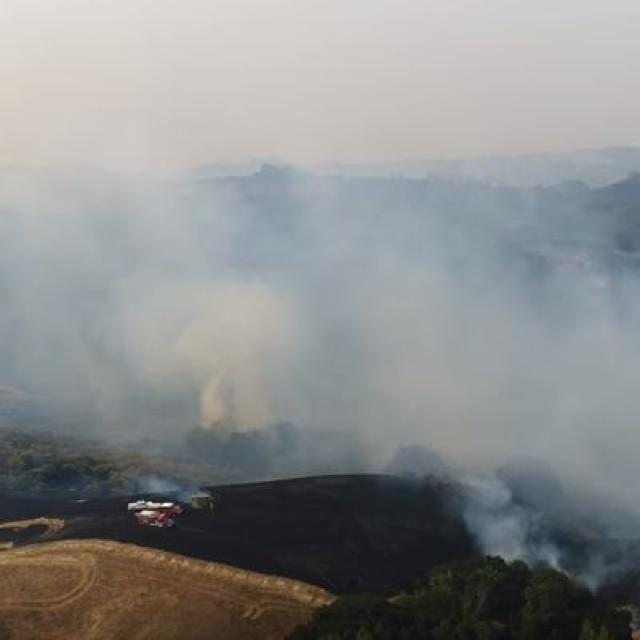Smoke: (20, 175, 594, 442), (373, 209, 640, 569)
